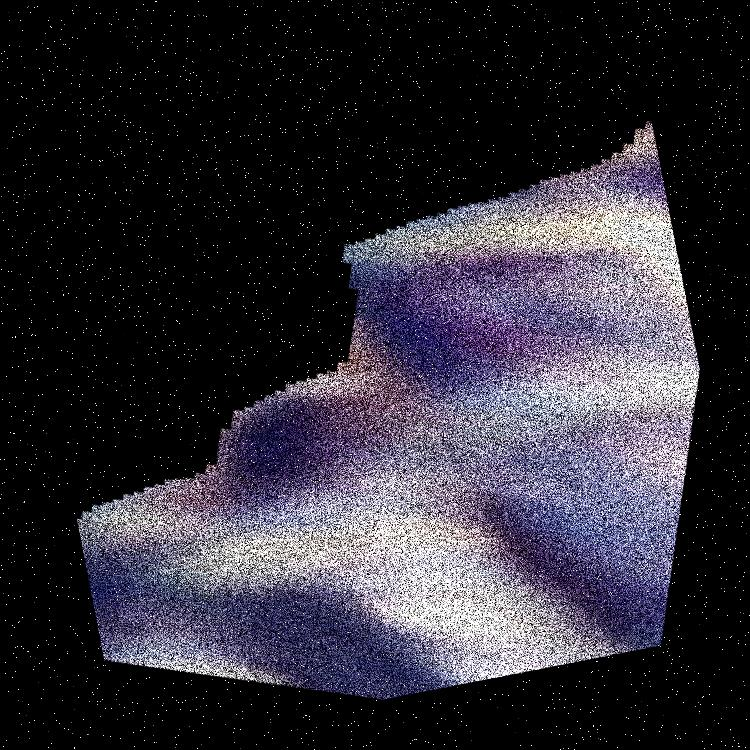Pessoa: (376, 0, 749, 749)
